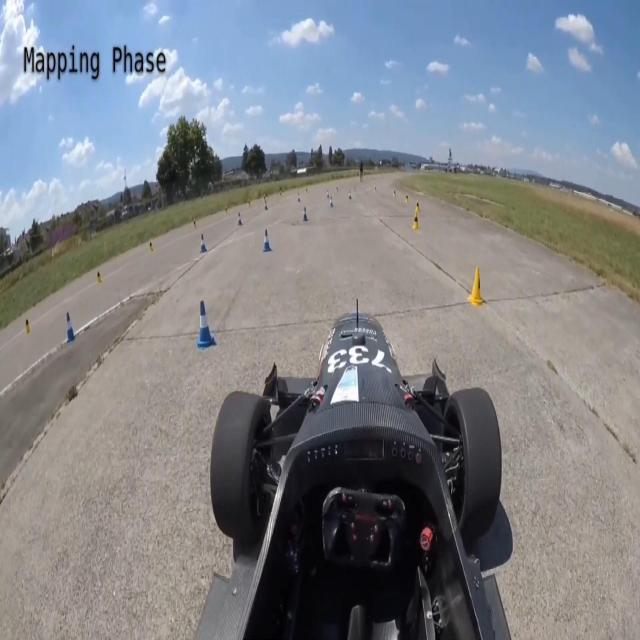blue_cone: (197, 299, 216, 351), (66, 310, 76, 344), (262, 228, 272, 252), (199, 232, 207, 254), (303, 207, 308, 221), (238, 212, 242, 225)
yellow_cone: (468, 263, 484, 306), (412, 211, 419, 229), (24, 316, 31, 333), (97, 268, 102, 284), (415, 198, 420, 213), (149, 239, 153, 252), (406, 193, 408, 203)
